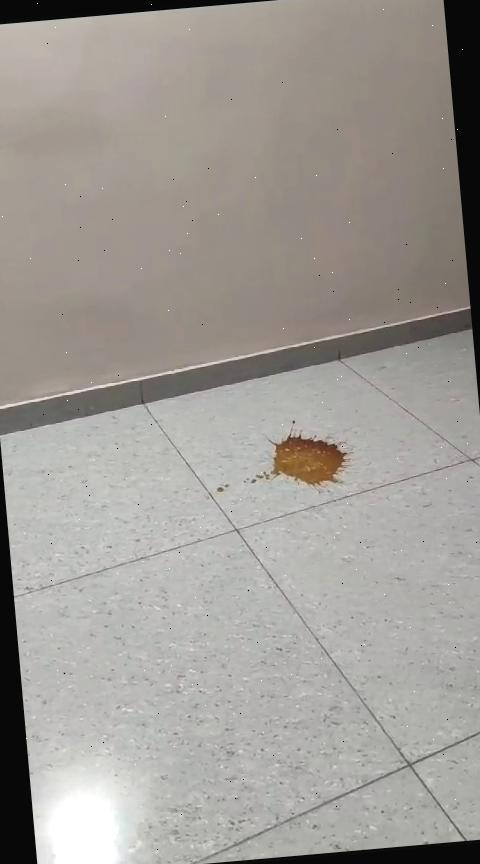dirty_floor: (218, 410, 357, 511)
